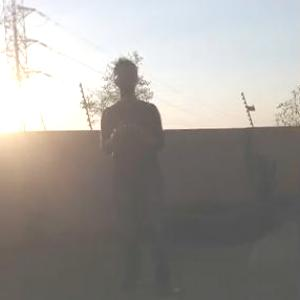follow: (97, 48, 188, 294)
